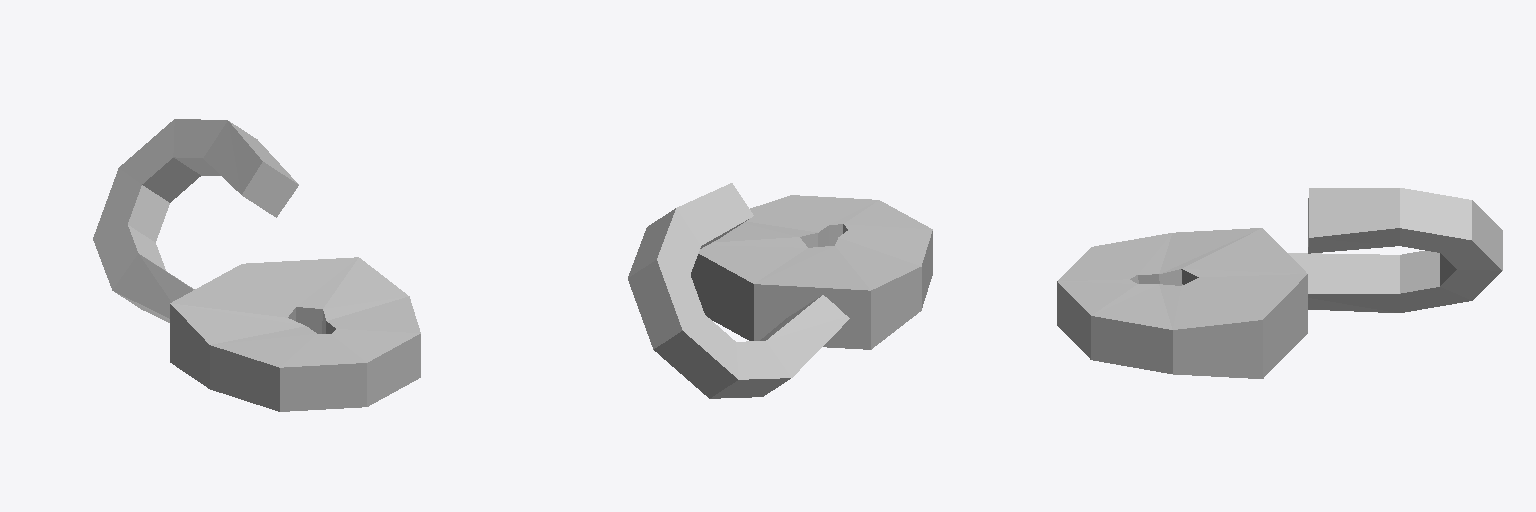
File: keylock02.obj
The picture shows the model from 3 angles: view 1: azimuth 30°, elevation 25°; view 2: azimuth 150°, elevation 25°; view 3: azimuth 270°, elevation 25°; orthographic projection.
Parts seen in each view (by area): view 1: Cylinder.002_Cylinder.003; view 2: Cylinder.002_Cylinder.003; view 3: Cylinder.002_Cylinder.003.
Part boxes in pixels (left/top/right/bottom): Cylinder.002_Cylinder.003: left=93, top=119, right=420, bottom=411; Cylinder.002_Cylinder.003: left=628, top=183, right=932, bottom=398; Cylinder.002_Cylinder.003: left=1057, top=188, right=1502, bottom=378.
Size of the model in its own units: 0.1033 by 0.0831 by 0.1994.